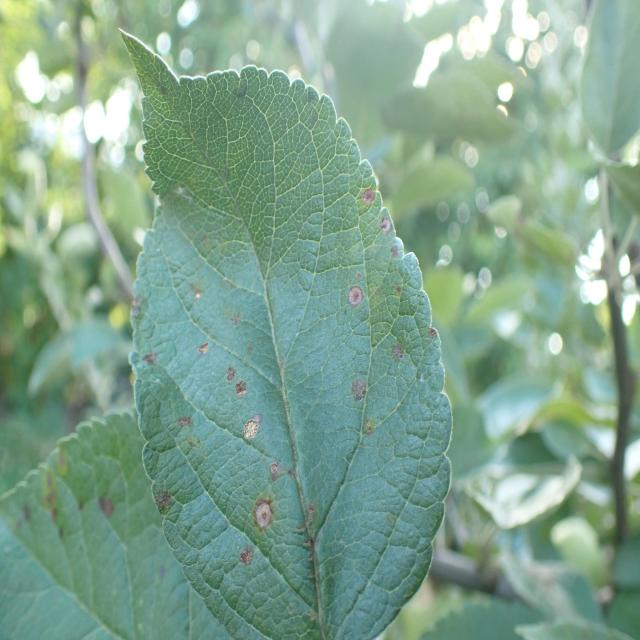frog-eye-leaf-spot: (121, 22, 454, 638)
